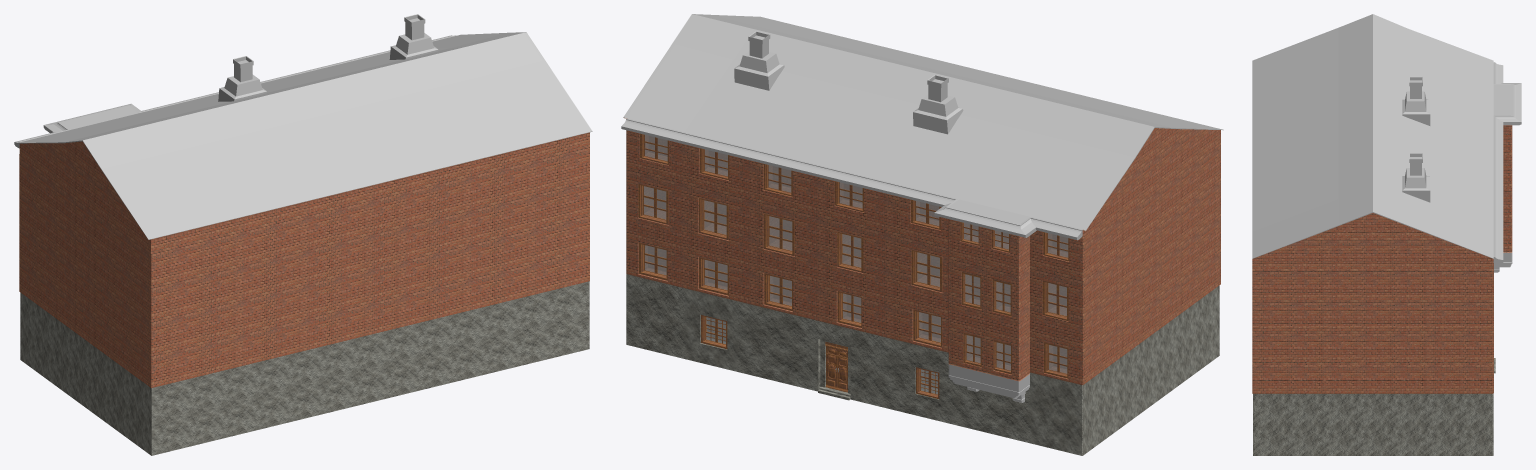
File: Apartment2_Low.fbx
3 views of the same model, side by side, from view 1: azimuth 30°, elevation 25°; view 2: azimuth 150°, elevation 25°; view 3: azimuth 270°, elevation 25° (orthographic). The views are drawn at different scales.
Parts seen in each view (by area): view 1: Apartment2, FullHouse.083, Apartment2.001, Apartment2.005, Apartment2.003, Apartment2.002, Apartment2.004, Apartment2.007, Apartment2.006, 5th_R_C.012; view 2: Apartment2, FullHouse.083, Apartment2.001, Apartment2.005, Apartment2.003, Apartment2.007, 5th_R_C.012, Apartment2.004, Apartment2.006, Apartment2.002, Apartment2.008, FullHouse.020 (+22 smaller); view 3: FullHouse.083, Apartment2, Apartment2.007, 5th_R_C.012.
Part boxes in pixels (bbox=[...]): Apartment2: bbox=[19, 132, 589, 387]; FullHouse.083: bbox=[14, 32, 592, 239]; Apartment2.001: bbox=[20, 292, 202, 455]; Apartment2.005: bbox=[407, 307, 481, 393]; Apartment2.003: bbox=[270, 341, 344, 426]; Apartment2.002: bbox=[202, 359, 270, 443]; Apartment2.004: bbox=[344, 326, 407, 408]; Apartment2.007: bbox=[534, 281, 589, 362]; Apartment2.006: bbox=[482, 295, 533, 375]; 5th_R_C.012: bbox=[218, 14, 438, 101]; Apartment2: bbox=[623, 117, 1220, 385]; FullHouse.083: bbox=[621, 14, 1223, 240]; Apartment2.001: bbox=[1030, 285, 1219, 455]; Apartment2.005: bbox=[738, 301, 815, 390]; Apartment2.003: bbox=[880, 336, 958, 425]; Apartment2.007: bbox=[626, 274, 684, 358]; 5th_R_C.012: bbox=[734, 31, 963, 134]; Apartment2.004: bbox=[815, 320, 880, 406]; Apartment2.006: bbox=[684, 288, 737, 371]; Apartment2.002: bbox=[958, 385, 1029, 443]; Apartment2.008: bbox=[948, 364, 1029, 402]; FullHouse.020: bbox=[911, 250, 942, 292]; FullHouse.083: bbox=[1252, 14, 1521, 263]; Apartment2: bbox=[1252, 125, 1512, 393]; Apartment2.007: bbox=[1253, 394, 1493, 455]; 5th_R_C.012: bbox=[1402, 76, 1430, 202].
Bounding box in the file's own units: 27.26 × 16.81 × 15.69.
